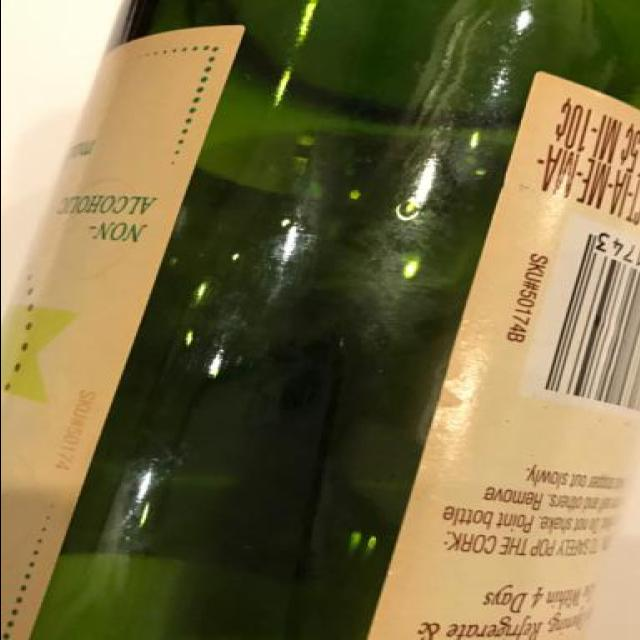Glass Bottle: (10, 9, 635, 639)
